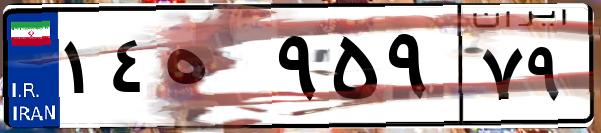1: (57, 26, 110, 100)
4: (110, 28, 158, 98)
5: (330, 28, 385, 110)
7: (475, 38, 525, 113)
9: (270, 28, 330, 110), (385, 28, 445, 110), (525, 38, 570, 115)
ه: (158, 20, 270, 120)
